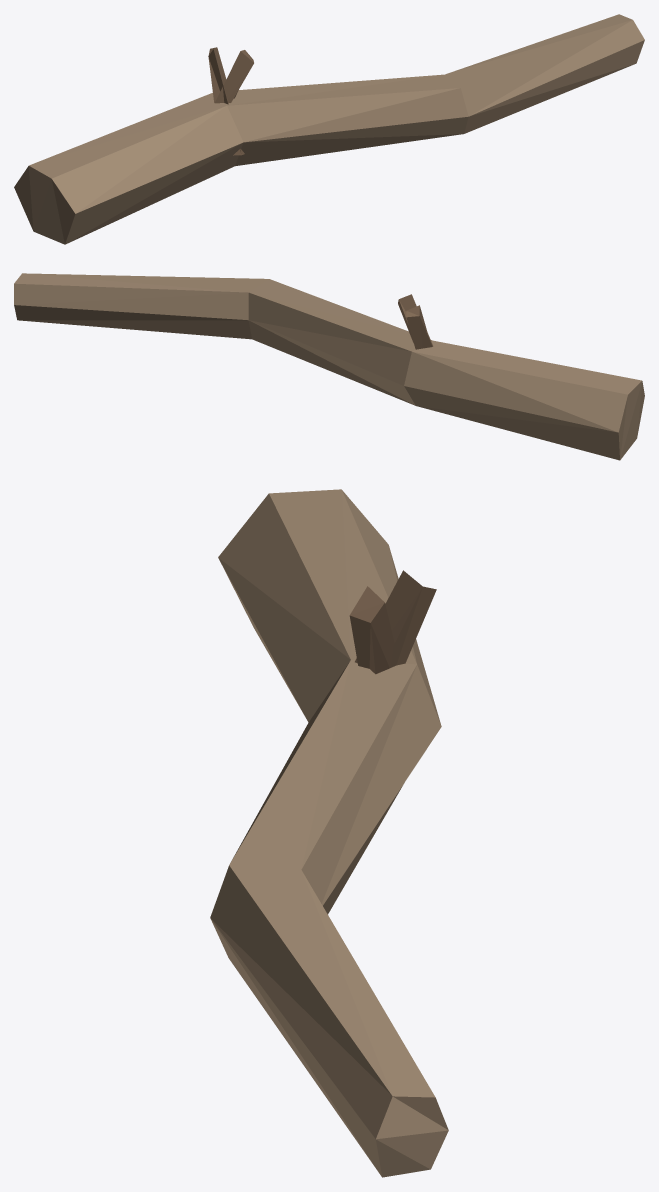
File: driftwood_a.glb
The picture shows the model from 3 angles, top to bottom: view 1: azimuth 30°, elevation 25°; view 2: azimuth 150°, elevation 25°; view 3: azimuth 270°, elevation 25°; orthographic projection. The views are drawn at different scales.
Parts seen in each view (by area): view 1: driftwood_a; view 2: driftwood_a; view 3: driftwood_a.
Boxes of the visible parts, left/top/right/bottom form: driftwood_a: left=14, top=14, right=644, bottom=244; driftwood_a: left=14, top=273, right=644, bottom=460; driftwood_a: left=210, top=489, right=448, bottom=1177.
Size of the model in its own units: 1.9 by 0.3629 by 0.3264.
Materials: 1 (1 with a texture image).
